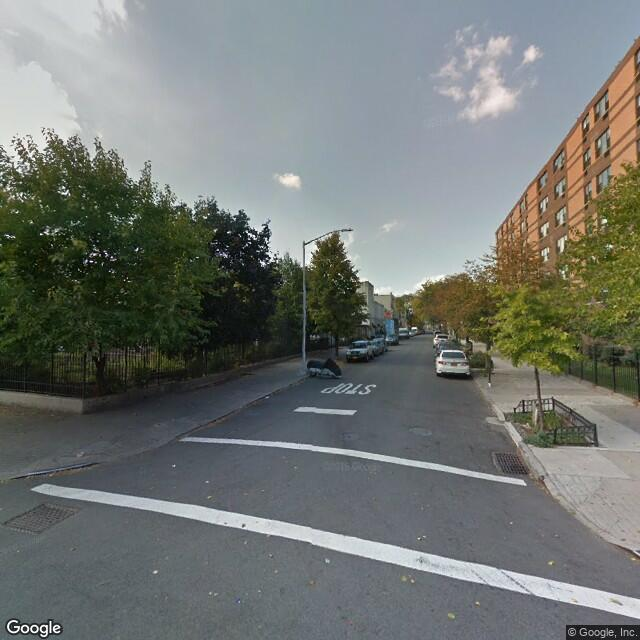litter: (148, 563, 178, 581), (166, 462, 190, 476), (263, 391, 280, 401)
